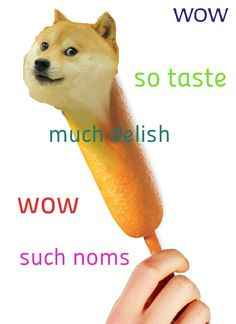doge: (20, 6, 120, 119)
